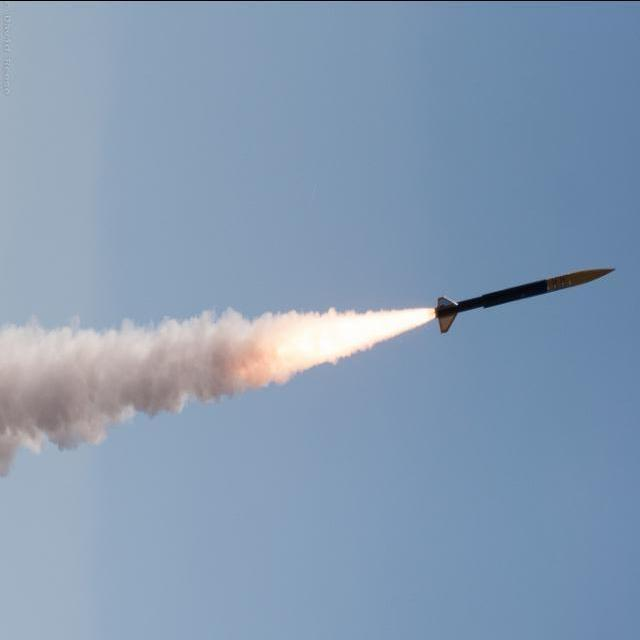missile: (432, 253, 627, 351)
